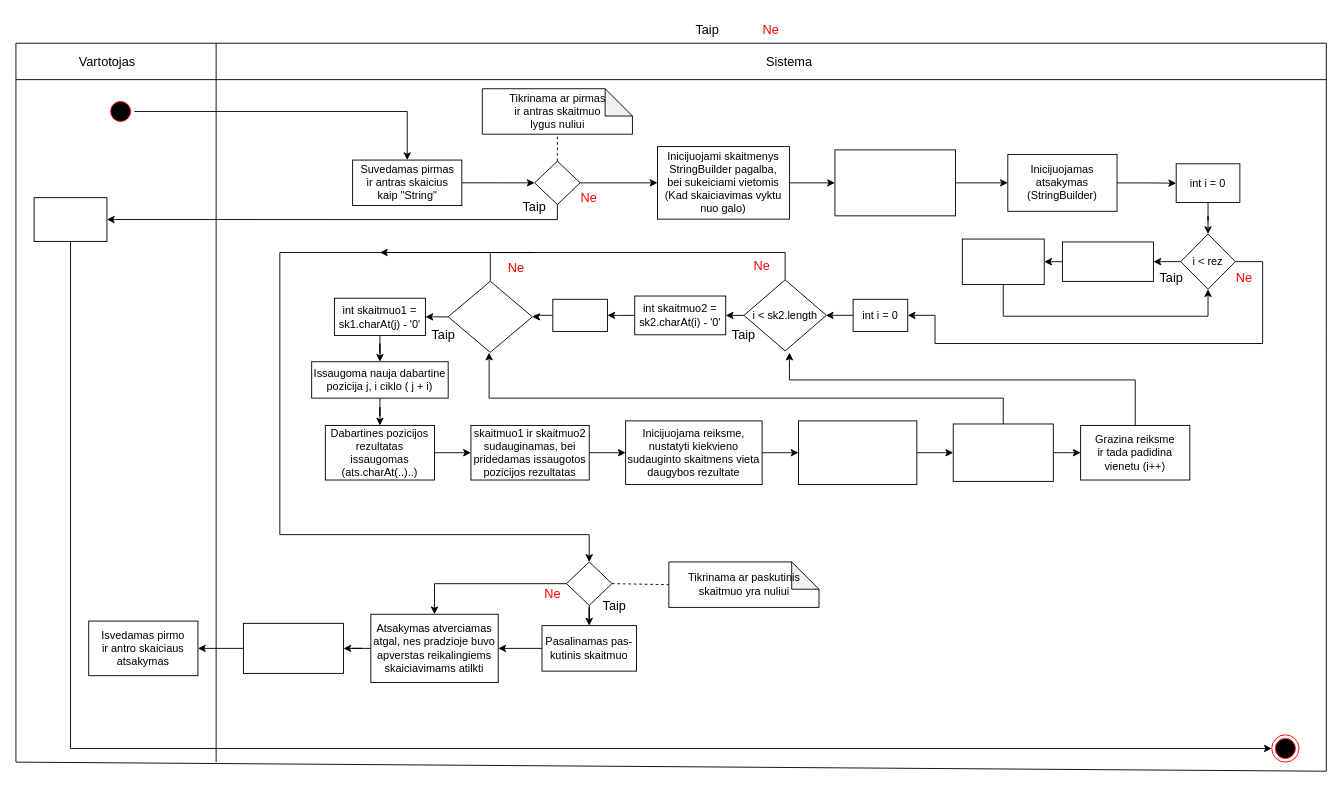
The diagram is 1343 pixels wide and 788 high, and some of its shapes have lost their labels. The shapes that lost their labels are listed below. From the top down, each one's box as (x1, y1, x2, y2) in pixels, then its label:
(834, 149, 956, 216): Issaugomas sandaugos rezultatas(Sudedamas pirmo, bei antro skaiciaus ilgis (0))
(33, 197, 107, 241): Vartotojui Isvedamas "0"
(961, 238, 1044, 285): Grazina reiksme jau padidinta vienetu (++i)
(1062, 241, 1153, 281): ats.append(0);
(447, 280, 532, 352): j < sk1.length
(552, 298, 607, 331): int j = 0
(798, 420, 917, 485): kiekviena gauta reiksme pridedame i sekancia pozicija (dabartinePoz +1)
(952, 423, 1053, 481): Grazina reiksme ir tada padidina vienetu (j++)
(243, 622, 344, 673): Grazinamas atsakymas
